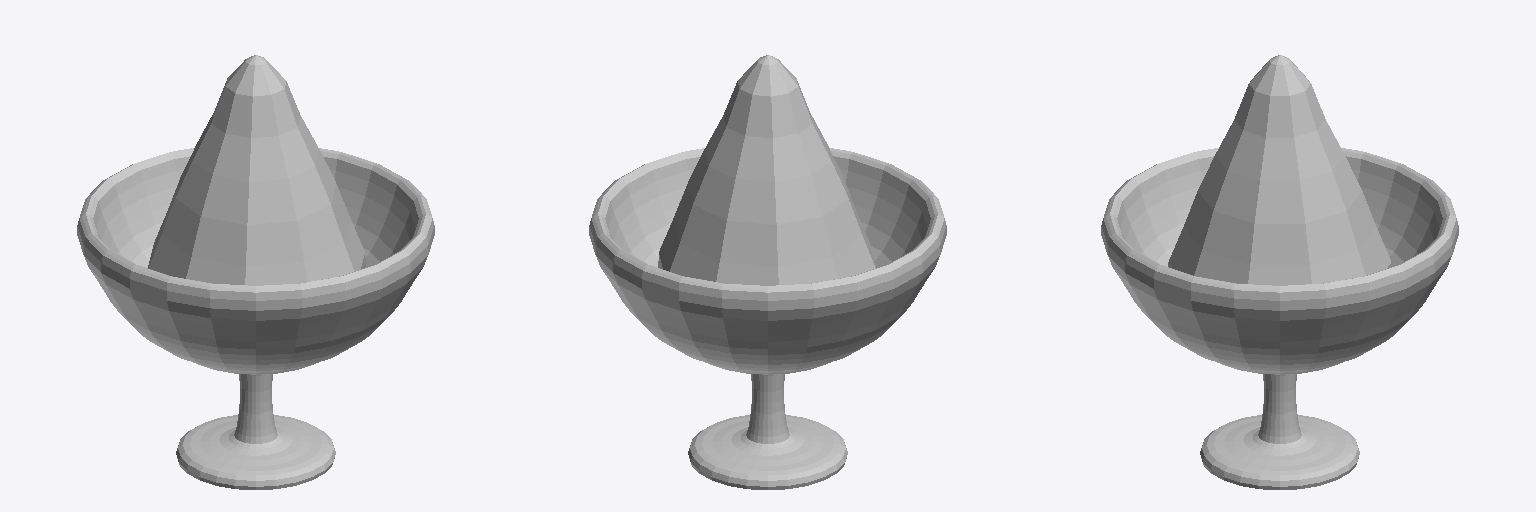
The model's file is Flape.obj.
The picture shows the model from 3 angles: view 1: azimuth 30°, elevation 25°; view 2: azimuth 150°, elevation 25°; view 3: azimuth 270°, elevation 25°; orthographic projection.
Bounding box in the file's own units: 73.17 × 90.93 × 73.17.